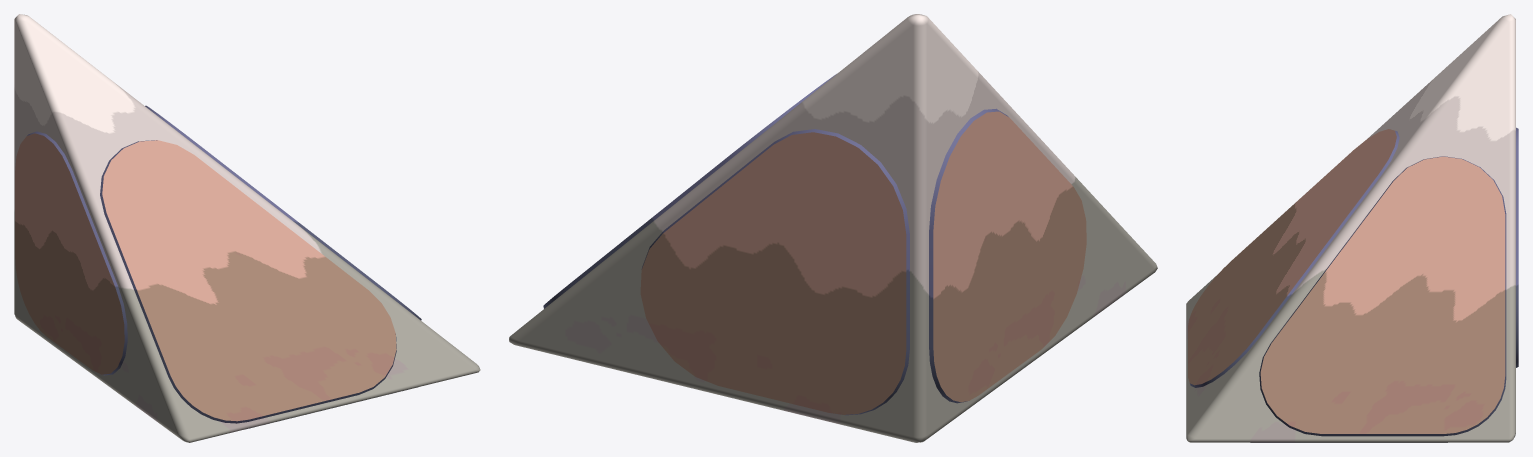
The model's file is R4B_CornerWedge.glb.
The picture shows the model from 3 angles, left to right: view 1: azimuth 30°, elevation 25°; view 2: azimuth 150°, elevation 25°; view 3: azimuth 270°, elevation 25°; orthographic projection. The views are drawn at different scales.
Parts seen in each view (by area): view 1: R4B_CornerWedge; view 2: R4B_CornerWedge; view 3: R4B_CornerWedge.
Boxes of the visible parts, x1,y1,x2,y2 form: R4B_CornerWedge: [14, 14, 480, 442]; R4B_CornerWedge: [509, 14, 1157, 442]; R4B_CornerWedge: [1186, 14, 1518, 442].
Size of the model in its own units: 0.5042 by 0.4933 by 0.5042.
3 materials, 3 textured.
